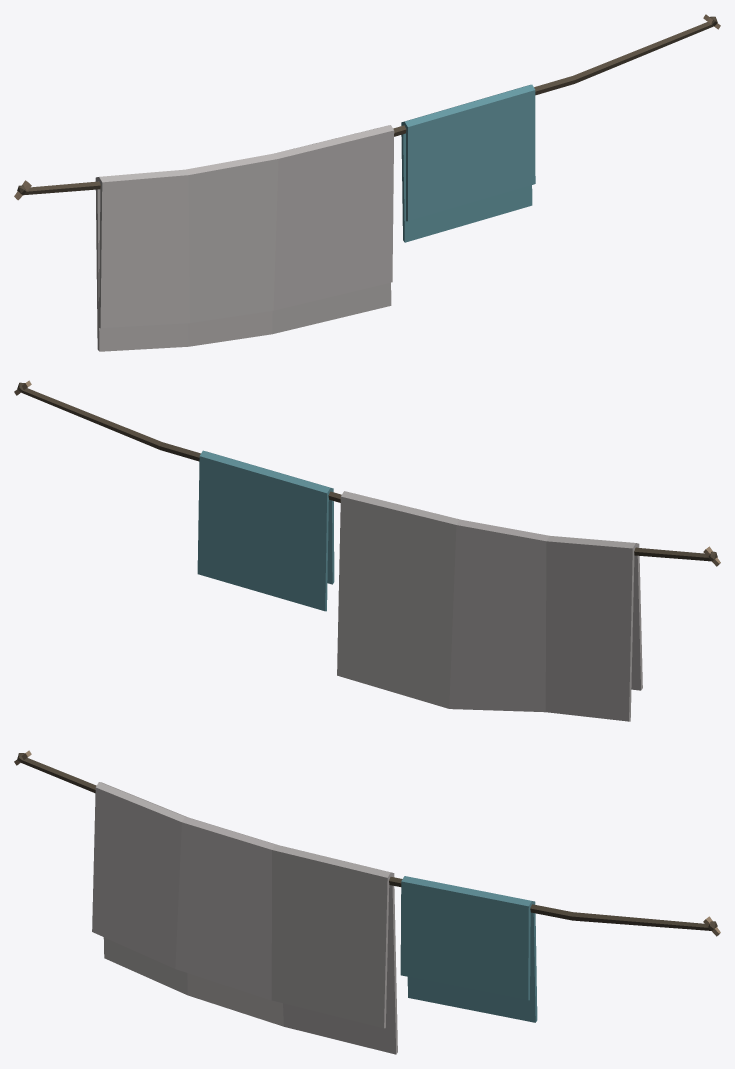
File: SM_Prop_Washingline_02.glb
3 renders of one model, top to bottom at view 1: azimuth 30°, elevation 25°; view 2: azimuth 150°, elevation 25°; view 3: azimuth 330°, elevation 25°, orthographic.
Parts seen in each view (by area): view 1: SM_Prop_Washingline_02; view 2: SM_Prop_Washingline_02; view 3: SM_Prop_Washingline_02.
Part boxes in pixels (x1=…): SM_Prop_Washingline_02: x1=14, y1=14, x2=720, y2=351; SM_Prop_Washingline_02: x1=14, y1=380, x2=720, y2=721; SM_Prop_Washingline_02: x1=14, y1=750, x2=720, y2=1054.
Size of the model in its own units: 6.91 by 2.04 by 0.2514.
Materials: 1 (1 with a texture image).
